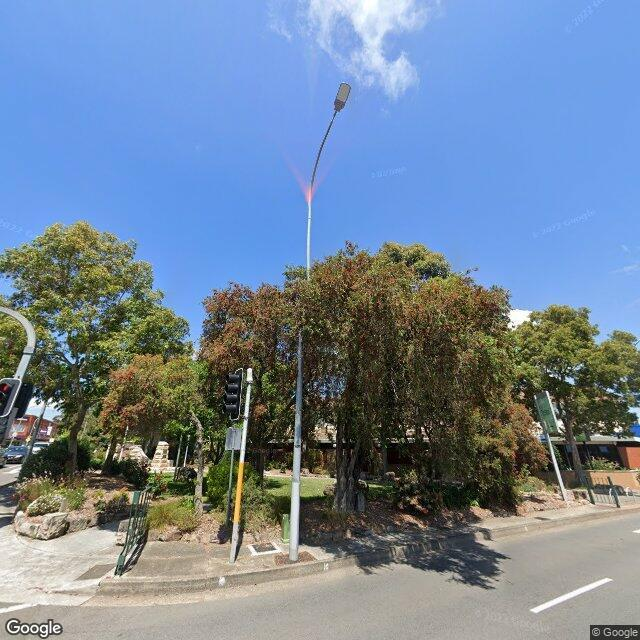steel-pole: (289, 217, 313, 561), (226, 367, 258, 563)
streetlight: (308, 80, 352, 220)
traffic-light: (216, 368, 245, 426), (0, 377, 21, 421)
